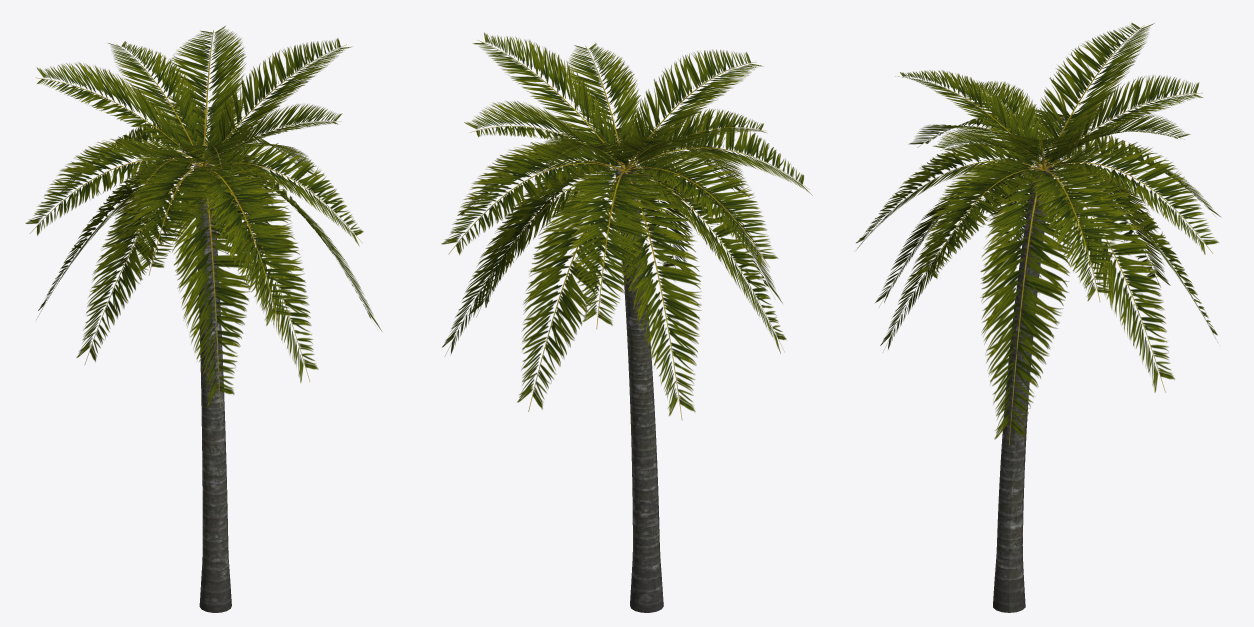
Rendered from palm.glb.
The picture shows the model from 3 angles, left to right: view 1: azimuth 30°, elevation 25°; view 2: azimuth 150°, elevation 25°; view 3: azimuth 270°, elevation 25°; orthographic projection. The views are drawn at different scales.
Visible parts, largest first — view 1: palm_real_a; view 2: palm_real_a; view 3: palm_real_a.
Boxes of the visible parts, x1,y1,x2,y2 form: palm_real_a: [25, 25, 382, 612]; palm_real_a: [441, 32, 812, 612]; palm_real_a: [854, 22, 1221, 612].
Bounding box in the file's own units: 6.81 × 10.38 × 6.79.
2 materials, 2 textured.
